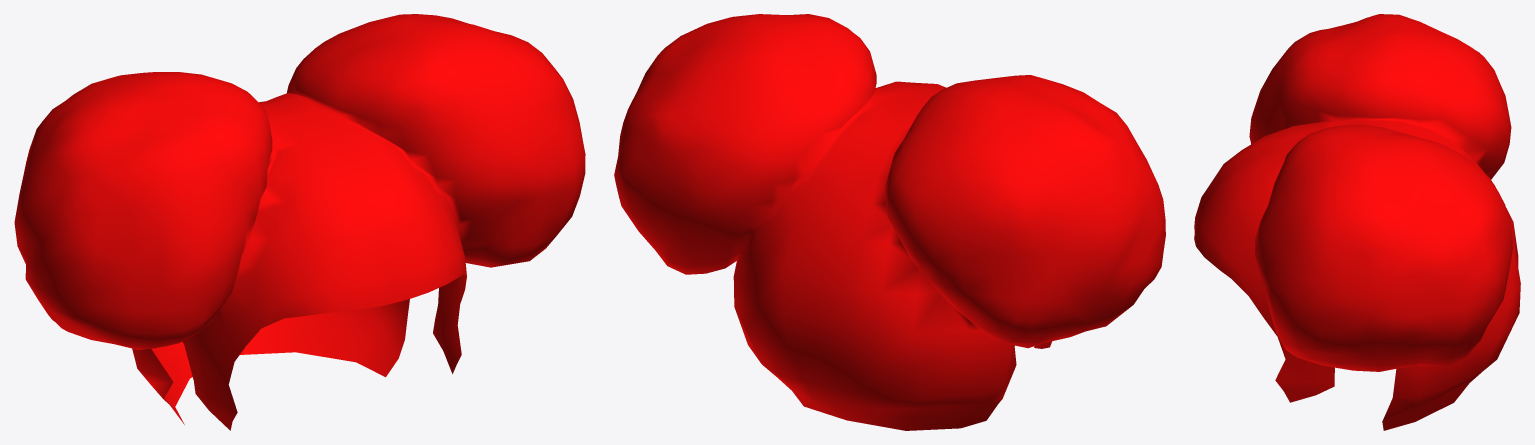
File: elvs_micky_afro_F.glb
3 views of the same model, side by side, from view 1: azimuth 30°, elevation 25°; view 2: azimuth 150°, elevation 25°; view 3: azimuth 270°, elevation 25° (orthographic). The views are drawn at different scales.
Bounding box in the file's own units: 0.3284 × 0.2067 × 0.2019.
1 material, 1 textured.
